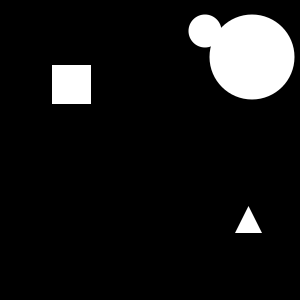circle: (52, 65, 91, 104)
rectangle: (209, 15, 294, 100), (188, 14, 222, 48)
triangle: (235, 206, 262, 233)
